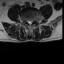CCS_normal: (28, 19, 31, 27)
LFS_severe_stenosis: (33, 18, 34, 23)
LLS_normal: (31, 19, 32, 25)
RFS_severe_stenosis: (24, 19, 27, 23)
RLS_stenosis: (27, 19, 29, 25)
